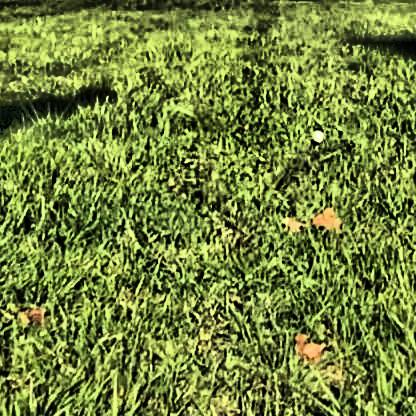golfball: (306, 125, 321, 140)
